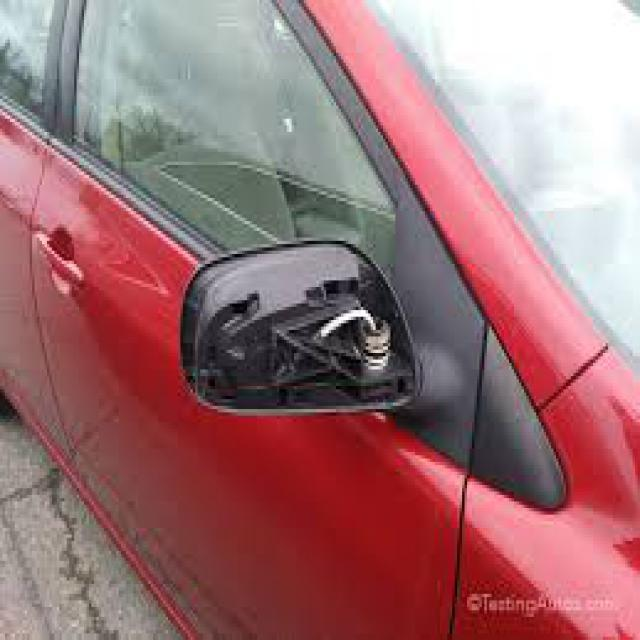Sidemirror-Damage: (165, 228, 434, 432)
